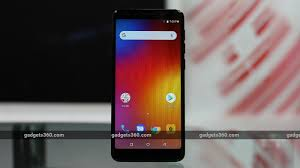lenovo: (108, 8, 190, 164)
